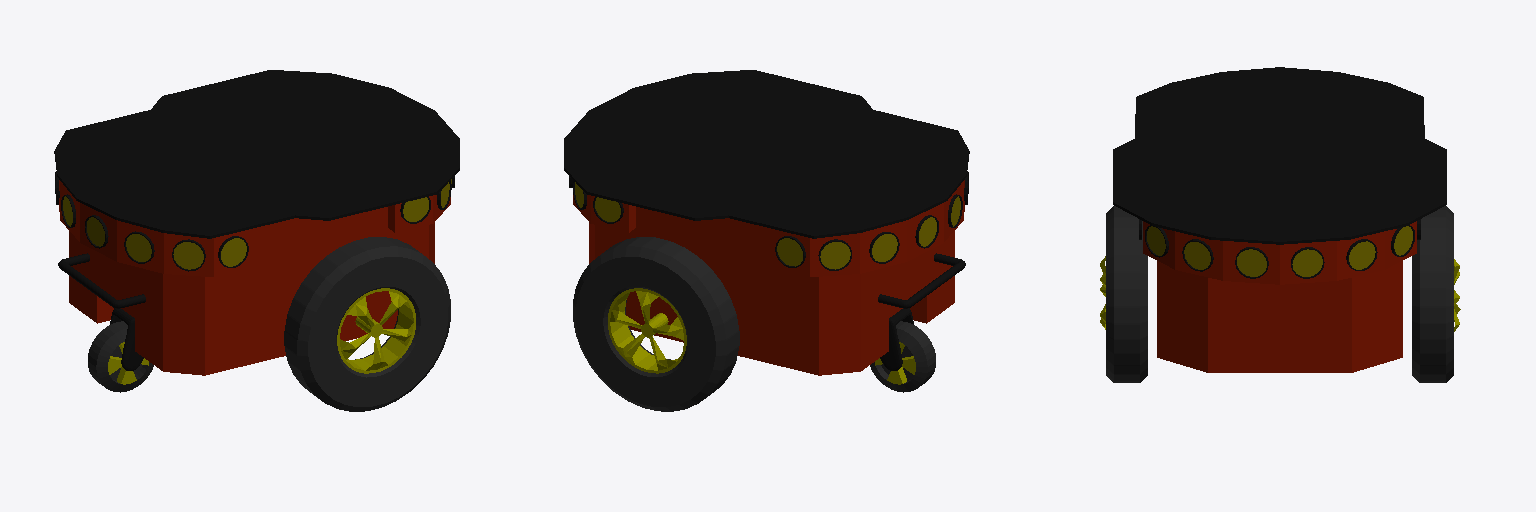
The model's file is pioneer3dx.obj.
3 views of the same model, side by side, from view 1: azimuth 30°, elevation 25°; view 2: azimuth 150°, elevation 25°; view 3: azimuth 270°, elevation 25° (orthographic).
Parts seen in each view (by area): view 1: Pioneer_PioneerMesh, Wheel_R_Circle.005, CasterWheel_Cylinder.002, Swivel_Plane.001; view 2: Pioneer_PioneerMesh, Wheel_L_Circle.006, CasterWheel_Cylinder.002, Swivel_Plane.001; view 3: Pioneer_PioneerMesh, Wheel_R_Circle.005, Wheel_L_Circle.006.
Boxes of the visible parts, x1,y1,x2,y2 form: Pioneer_PioneerMesh: [54, 70, 459, 375]; Wheel_R_Circle.005: [284, 237, 450, 411]; CasterWheel_Cylinder.002: [88, 321, 153, 392]; Swivel_Plane.001: [110, 308, 143, 370]; Pioneer_PioneerMesh: [564, 70, 969, 375]; Wheel_L_Circle.006: [573, 237, 739, 411]; CasterWheel_Cylinder.002: [870, 321, 935, 392]; Swivel_Plane.001: [880, 308, 913, 370]; Pioneer_PioneerMesh: [1113, 67, 1446, 372]; Wheel_R_Circle.005: [1100, 206, 1147, 382]; Wheel_L_Circle.006: [1412, 206, 1460, 382].
Size of the model in its own units: 1.08 by 0.586 by 0.9452.